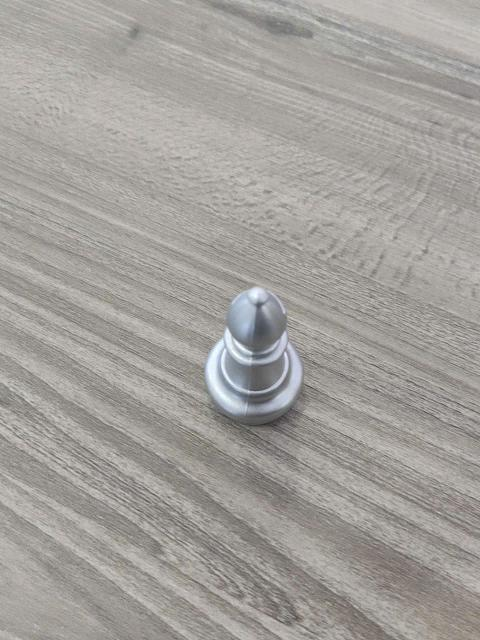white_bishop: (202, 278, 306, 421)
